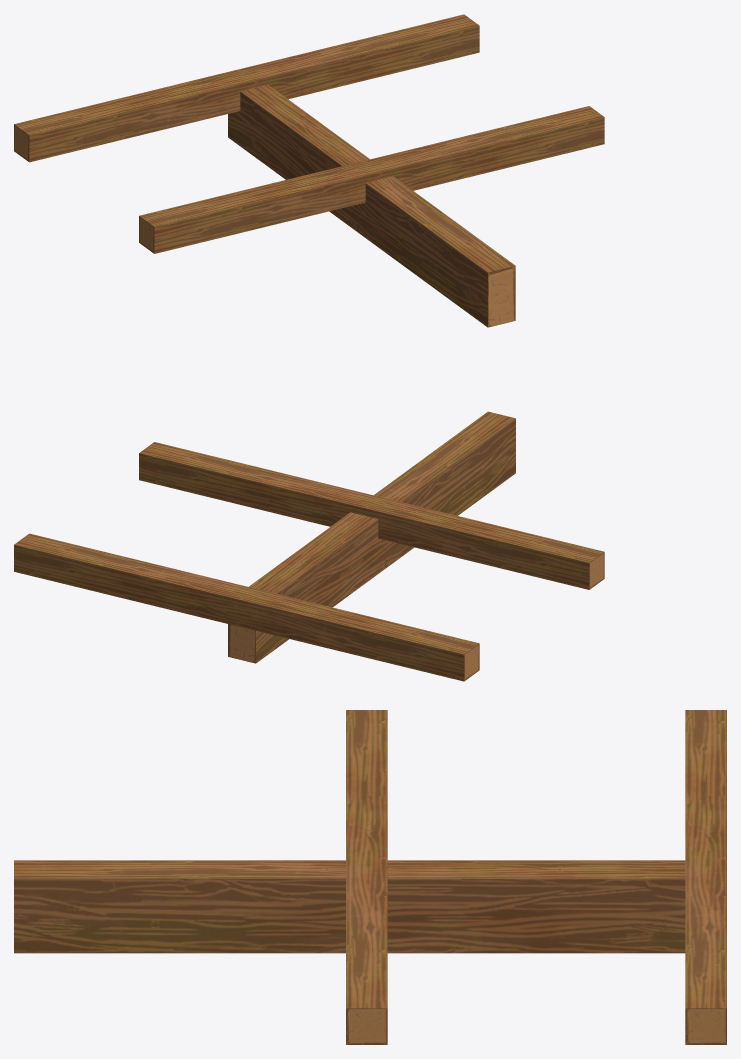
Rendered from overhang-roof-unevenbricks.glb.
3 views of the same model, one above another, from view 1: azimuth 30°, elevation 25°; view 2: azimuth 150°, elevation 25°; view 3: azimuth 270°, elevation 25° (orthographic). The views are drawn at different scales.
Parts seen in each view (by area): view 1: Overhang_Roof_UnevenBricks; view 2: Overhang_Roof_UnevenBricks; view 3: Overhang_Roof_UnevenBricks.
Part boxes in pixels (bbox=[...]): Overhang_Roof_UnevenBricks: bbox=[14, 14, 604, 327]; Overhang_Roof_UnevenBricks: bbox=[14, 411, 604, 681]; Overhang_Roof_UnevenBricks: bbox=[14, 710, 726, 1044].
Size of the model in its own units: 2 by 0.2659 by 2.02.
Materials: 2 (2 with a texture image).
